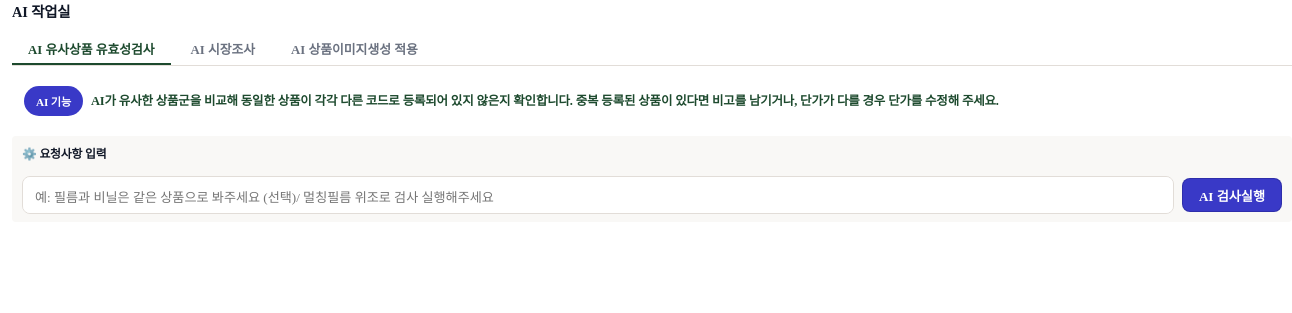
Test case: WorkbookAiRecommendationPanel › shows a not-found message when the market research query finds no data
Click the tab "AI 시장조사" at (223, 50), box [175,34,271,65]
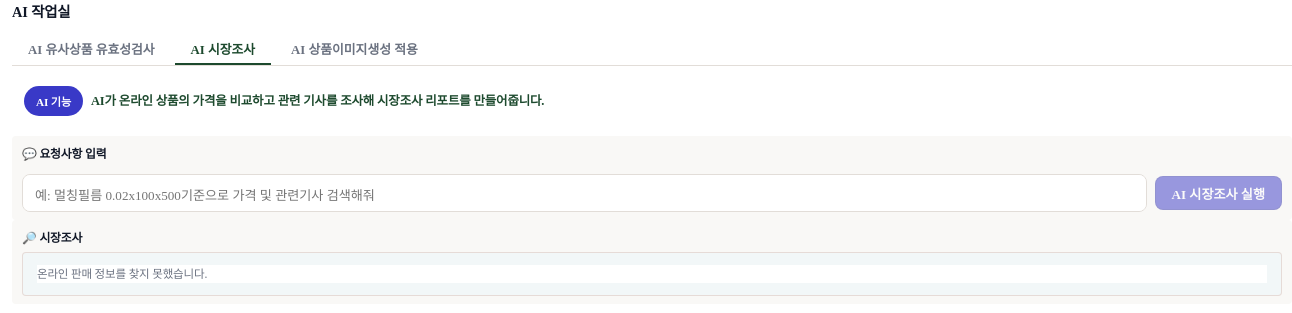
Now the text "온라인 판매 정보를 찾지 못했습니다." is shown, box [37,268,207,280]
